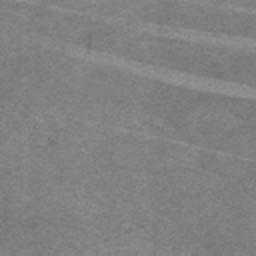Finishing roll printing: (59, 40, 256, 102), (49, 4, 256, 47), (104, 123, 250, 161)
